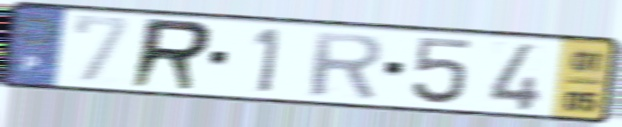1: (251, 26, 283, 96)
4: (486, 40, 546, 112)
5: (411, 36, 477, 107)
7: (69, 13, 137, 87)
R: (124, 15, 217, 94), (307, 29, 386, 101)
